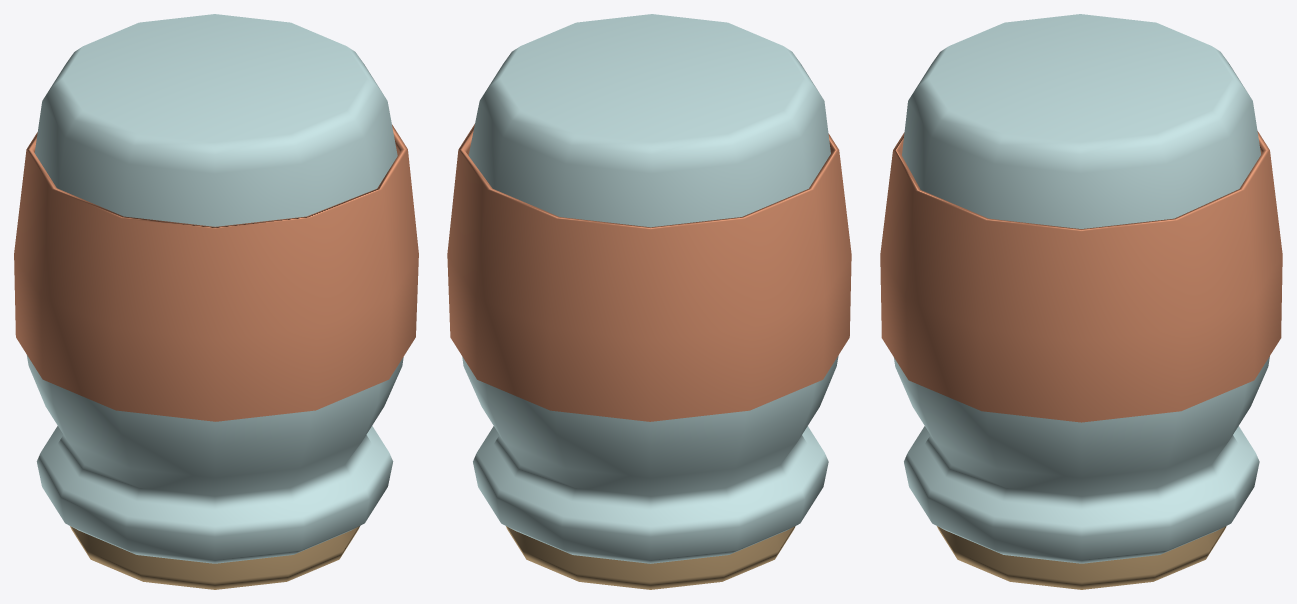
Rendered from Atoll_JarContainer.fbx.
3 views of the same model, side by side, from view 1: azimuth 30°, elevation 25°; view 2: azimuth 150°, elevation 25°; view 3: azimuth 270°, elevation 25° (orthographic).
Parts seen in each view (by area): view 1: Bottle, Label, Cork; view 2: Bottle, Label, Cork; view 3: Bottle, Label, Cork.
Boxes of the visible parts, x1=… form: Bottle: x1=27, y1=14, x2=403, y2=563; Label: x1=14, y1=124, x2=418, y2=421; Cork: x1=70, y1=526, x2=359, y2=589; Bottle: x1=462, y1=14, x2=838, y2=563; Label: x1=447, y1=124, x2=851, y2=421; Cork: x1=506, y1=526, x2=795, y2=589; Bottle: x1=893, y1=14, x2=1269, y2=563; Label: x1=880, y1=131, x2=1282, y2=422; Cork: x1=937, y1=526, x2=1226, y2=589.
Bounding box in the file's own units: 1.37 × 1.69 × 1.36.
Materials: 2 (2 with a texture image).
